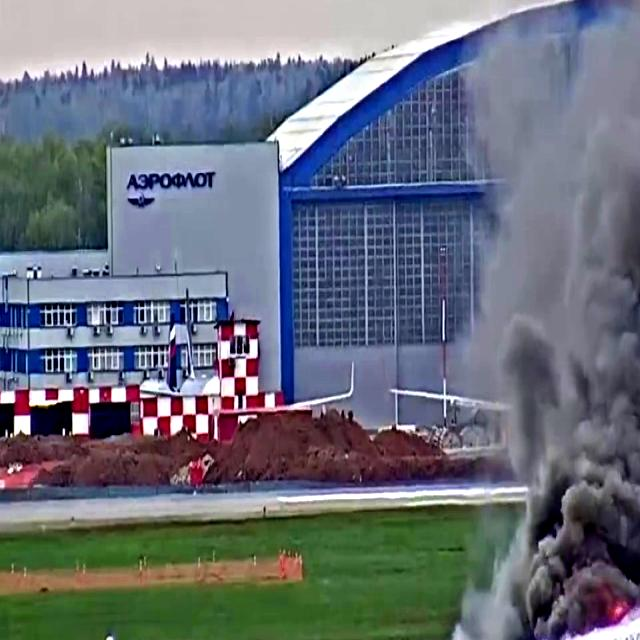smoke: (518, 90, 640, 631)
